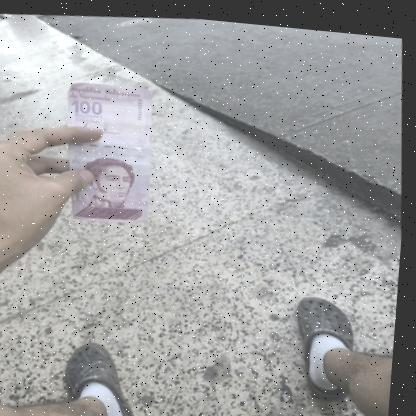one_hundred-front-vef: (59, 73, 164, 227)
